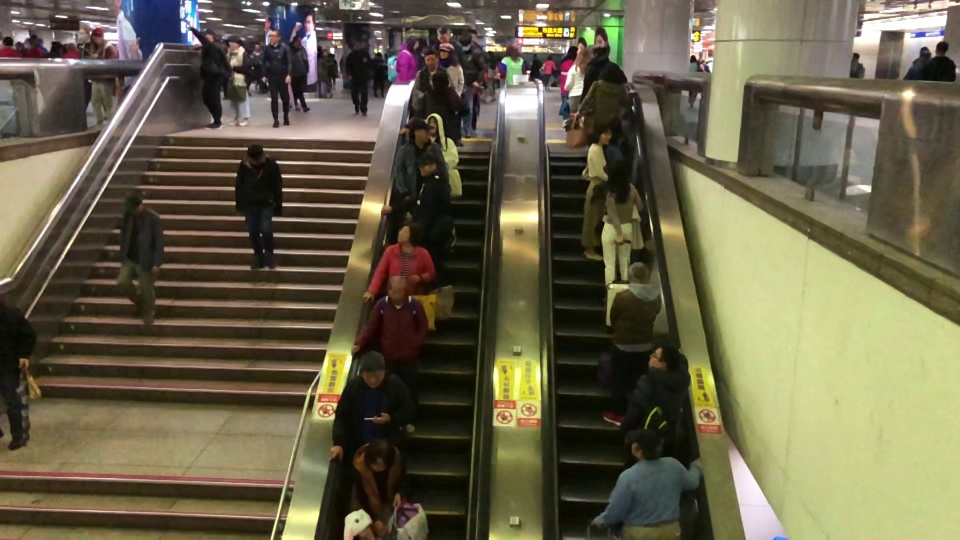person_head: (363, 436, 399, 472), (627, 426, 661, 462), (358, 348, 386, 388), (341, 507, 373, 540), (647, 344, 681, 373), (607, 158, 631, 193), (396, 218, 422, 247), (627, 257, 651, 285), (412, 151, 438, 176), (408, 118, 431, 145), (387, 274, 407, 304), (245, 138, 266, 166), (589, 121, 612, 146), (599, 60, 624, 82), (122, 192, 146, 214), (430, 69, 452, 92), (424, 111, 441, 138), (573, 47, 591, 69), (423, 50, 438, 71), (591, 45, 610, 61), (934, 39, 950, 57), (267, 26, 282, 45), (436, 25, 451, 43), (439, 43, 454, 61), (201, 27, 216, 44), (90, 28, 104, 46), (504, 43, 520, 58), (407, 34, 420, 51), (459, 33, 472, 50), (565, 46, 579, 61), (228, 34, 242, 48), (2, 35, 15, 48), (292, 34, 302, 49), (919, 44, 929, 57), (352, 37, 361, 50), (851, 51, 860, 61)
person_vbox: (590, 424, 703, 540), (351, 274, 429, 433), (327, 348, 414, 476), (601, 261, 661, 427), (381, 152, 453, 287), (617, 345, 690, 460), (113, 193, 164, 330), (359, 219, 436, 307), (230, 143, 284, 268), (598, 158, 644, 304), (348, 438, 408, 540), (0, 300, 38, 453), (399, 68, 470, 147), (424, 111, 463, 248), (184, 20, 231, 130), (393, 120, 452, 201), (577, 64, 630, 144), (579, 123, 609, 262), (86, 27, 119, 126), (457, 32, 487, 137), (261, 28, 292, 128), (223, 32, 252, 126), (579, 47, 626, 102), (412, 50, 451, 112), (344, 37, 372, 117), (288, 33, 312, 112), (565, 48, 590, 114), (387, 35, 420, 84), (920, 40, 957, 83), (559, 43, 578, 126), (437, 42, 464, 97), (902, 44, 932, 81), (497, 44, 527, 80), (0, 36, 23, 58), (849, 50, 866, 77)
